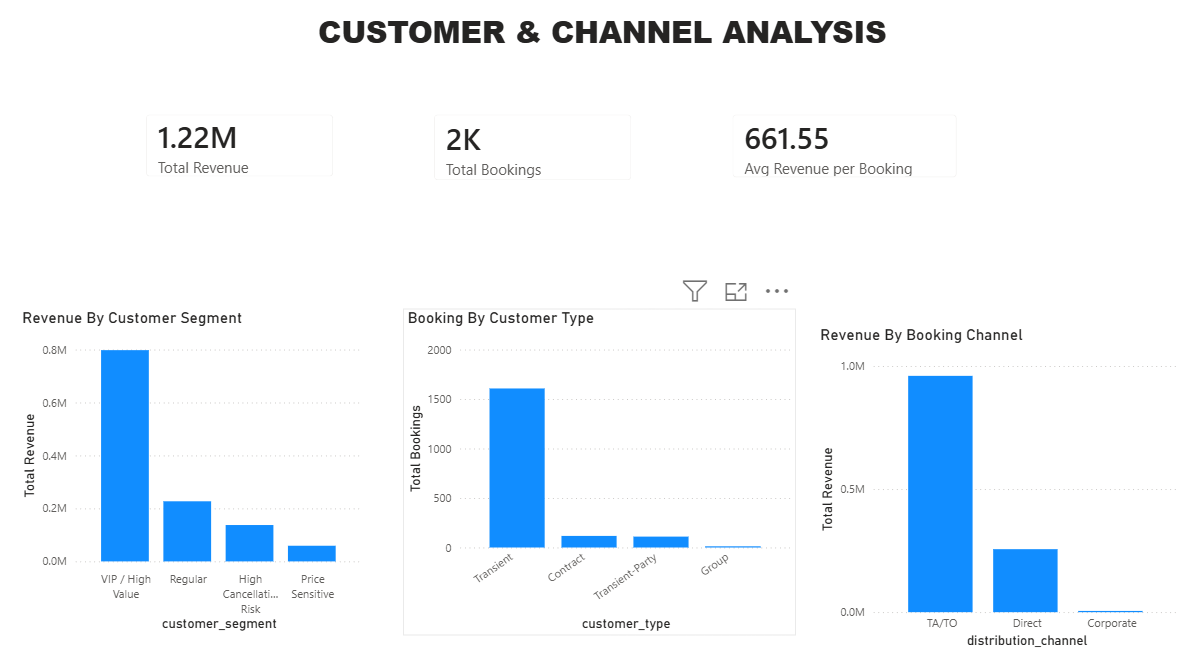

This screenshot's page, from the dashboard's own definition file:
{"tool":"powerbi","page":{"name":"Page 4","canvas":[1280,720],"ordinal":3},"visuals":[{"type":"textbox","box":[9.7,14.6,1233.9,72.9],"z":0},{"type":"cardVisual","fields":{"Data":["hotelanalytics hotel_bookings_clean.Total Bookings"]},"box":[453.4,115,247.6,105.2],"z":1000},{"type":"cardVisual","fields":{"Data":["hotelanalytics hotel_bookings_clean.Total Revenue"]},"box":[142.5,115,236.2,101.7],"z":2000},{"type":"cardVisual","fields":{"Data":["RoomInventory.Avg Revenue per Booking"]},"box":[775.6,115,276.9,102],"z":3000},{"type":"clusteredColumnChart","title":" Revenue By Customer Segment","fields":{"Category":["hotelanalytics hotel_bookings_clean.customer_segment"],"Y":["hotelanalytics hotel_bookings_clean.Total Revenue"]},"box":[21,341.7,377.3,353],"z":4000},{"type":"clusteredColumnChart","title":"Booking By Customer Type","fields":{"Category":["hotelanalytics hotel_bookings_clean.customer_type"],"Y":["hotelanalytics hotel_bookings_clean.Total Bookings"]},"box":[437.2,341.7,424.2,353],"z":5000},{"type":"clusteredColumnChart","title":" Revenue By Booking Channel","fields":{"Y":["hotelanalytics hotel_bookings_clean.Total Revenue"],"Category":["hotelanalytics hotel_bookings_clean.distribution_channel"]},"box":[882.5,359.5,398.3,353],"z":6000}]}

Visuals, with their boxes in screenshot pixels (x1, y1, x2, y2), scaled from the page's 1280x720 canvas onto the 1179x659 screenshot:
textbox: 9:13:1145:80
cardVisual - hotelanalytics hotel_bookings_clean.Total Bookings: 418:105:646:202
cardVisual - hotelanalytics hotel_bookings_clean.Total Revenue: 131:105:349:198
cardVisual - RoomInventory.Avg Revenue per Booking: 714:105:969:199
" Revenue By Customer Segment" clusteredColumnChart: 19:313:367:636
"Booking By Customer Type" clusteredColumnChart: 403:313:793:636
" Revenue By Booking Channel" clusteredColumnChart: 813:329:1178:652
